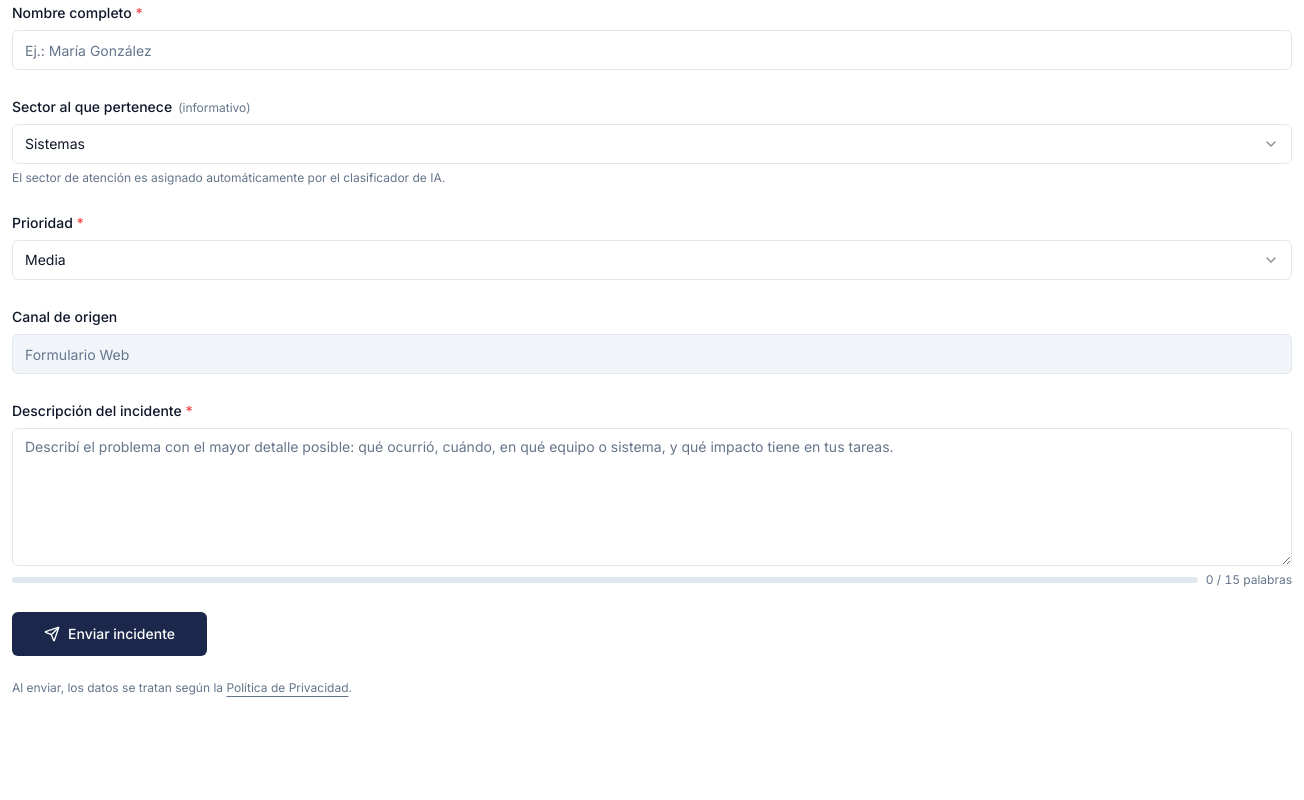
IncidenteForm › renderiza las cinco opciones de sector obtenidas en runtime del catálogo
This screenshot has width=1304, height=800.
Click the dropdown with id "sector_usuario" at (55, 144), box x1=12 y1=124 x2=1292 y2=164
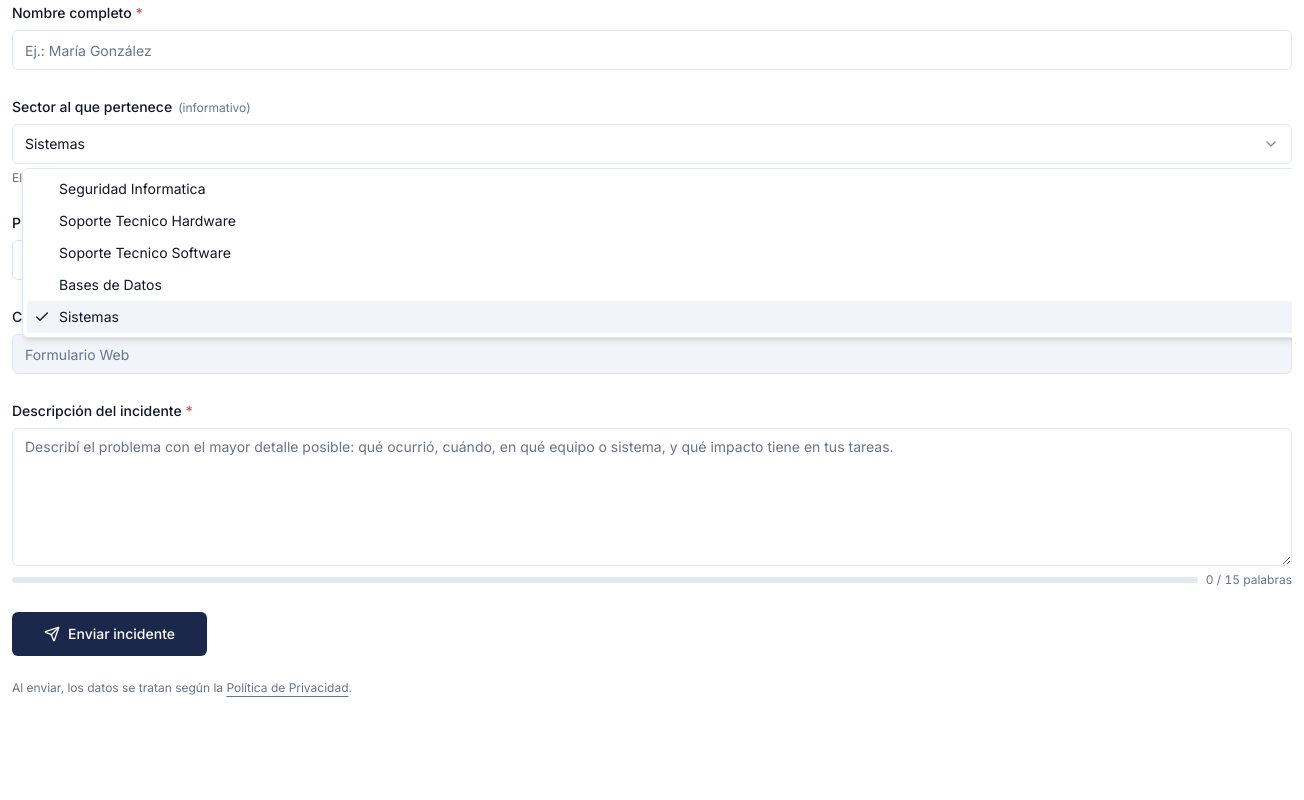
expect the option "Seguridad Informatica" is shown: met, box x1=59 y1=180 x2=206 y2=197
expect the option "Soporte Tecnico Hardware" is shown: met, box x1=59 y1=212 x2=236 y2=229
expect the option "Soporte Tecnico Software" is shown: met, box x1=59 y1=244 x2=231 y2=261
